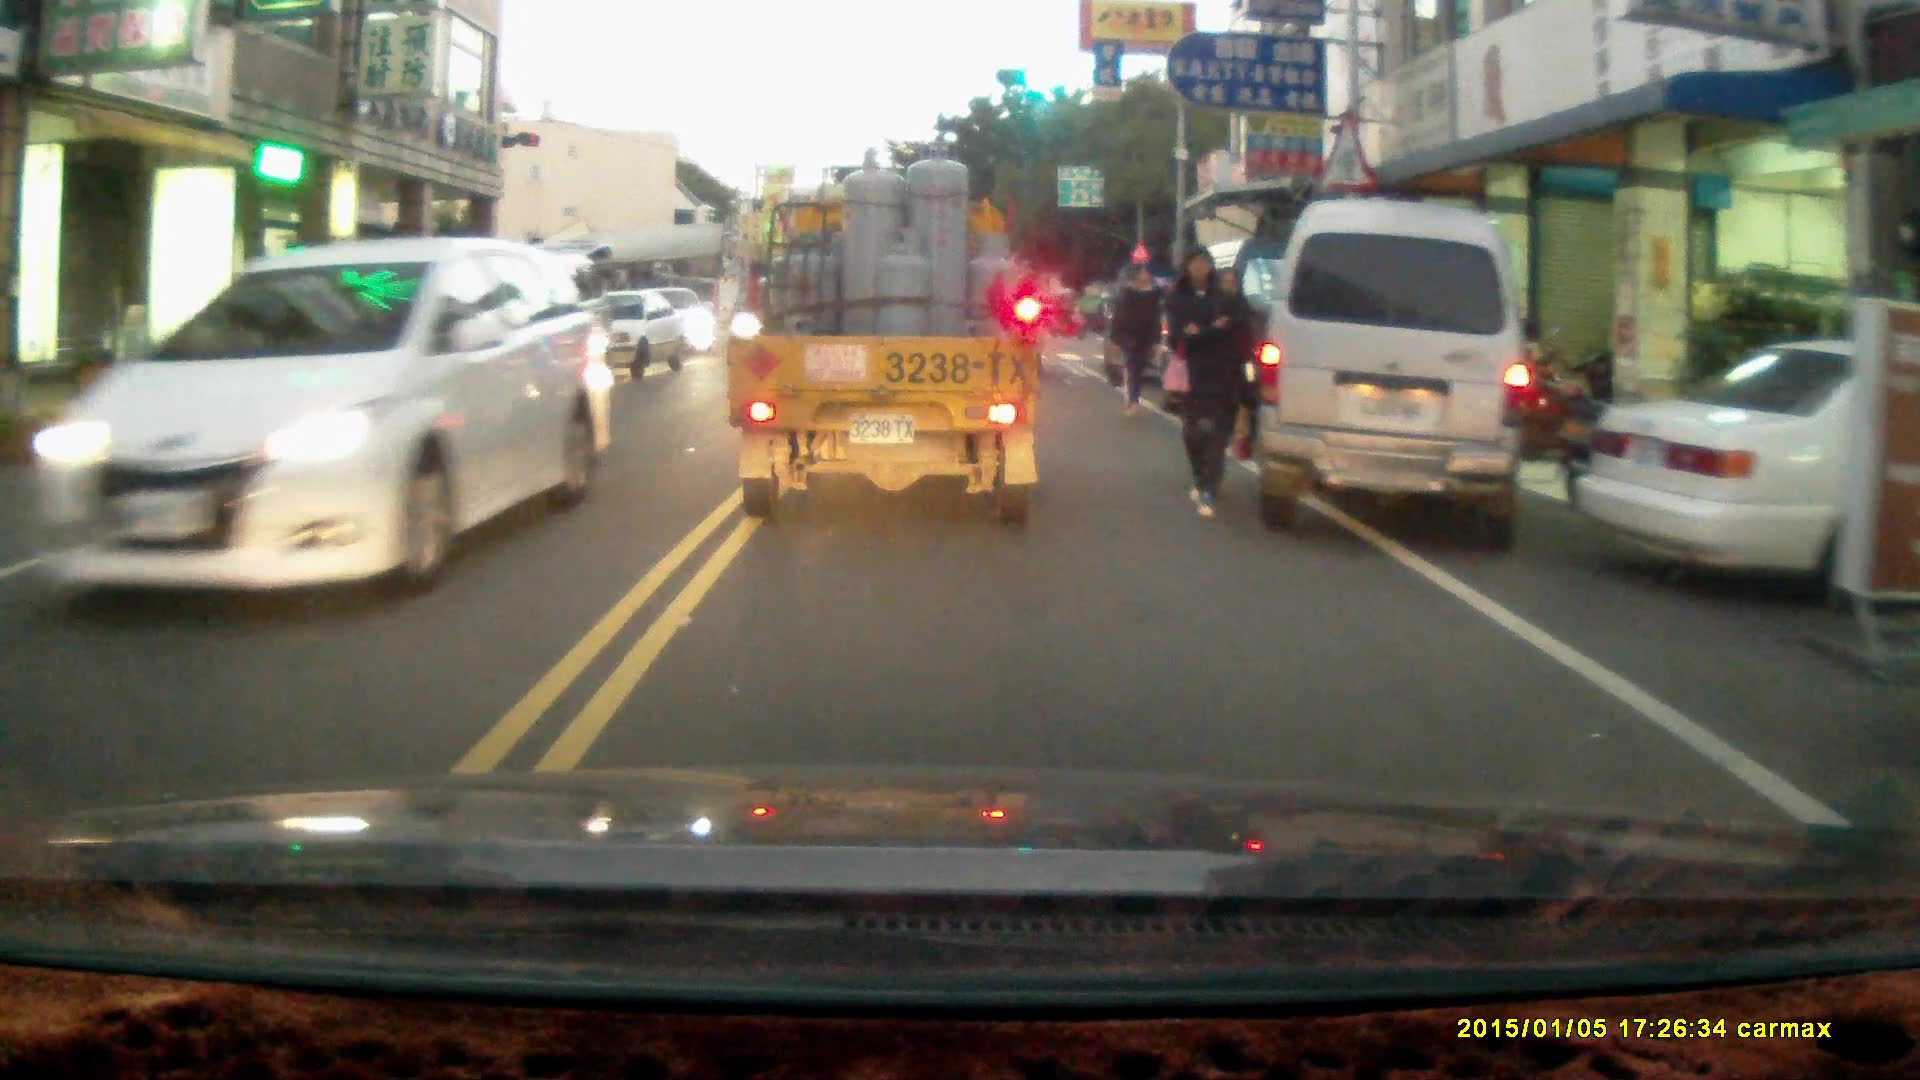pedestrian: (1163, 242, 1237, 520), (1110, 261, 1163, 423)
rider: (1046, 288, 1086, 341)
vehicle: (24, 239, 595, 606), (721, 139, 1048, 529), (1247, 198, 1537, 551), (1573, 336, 1920, 615), (545, 286, 688, 385)
